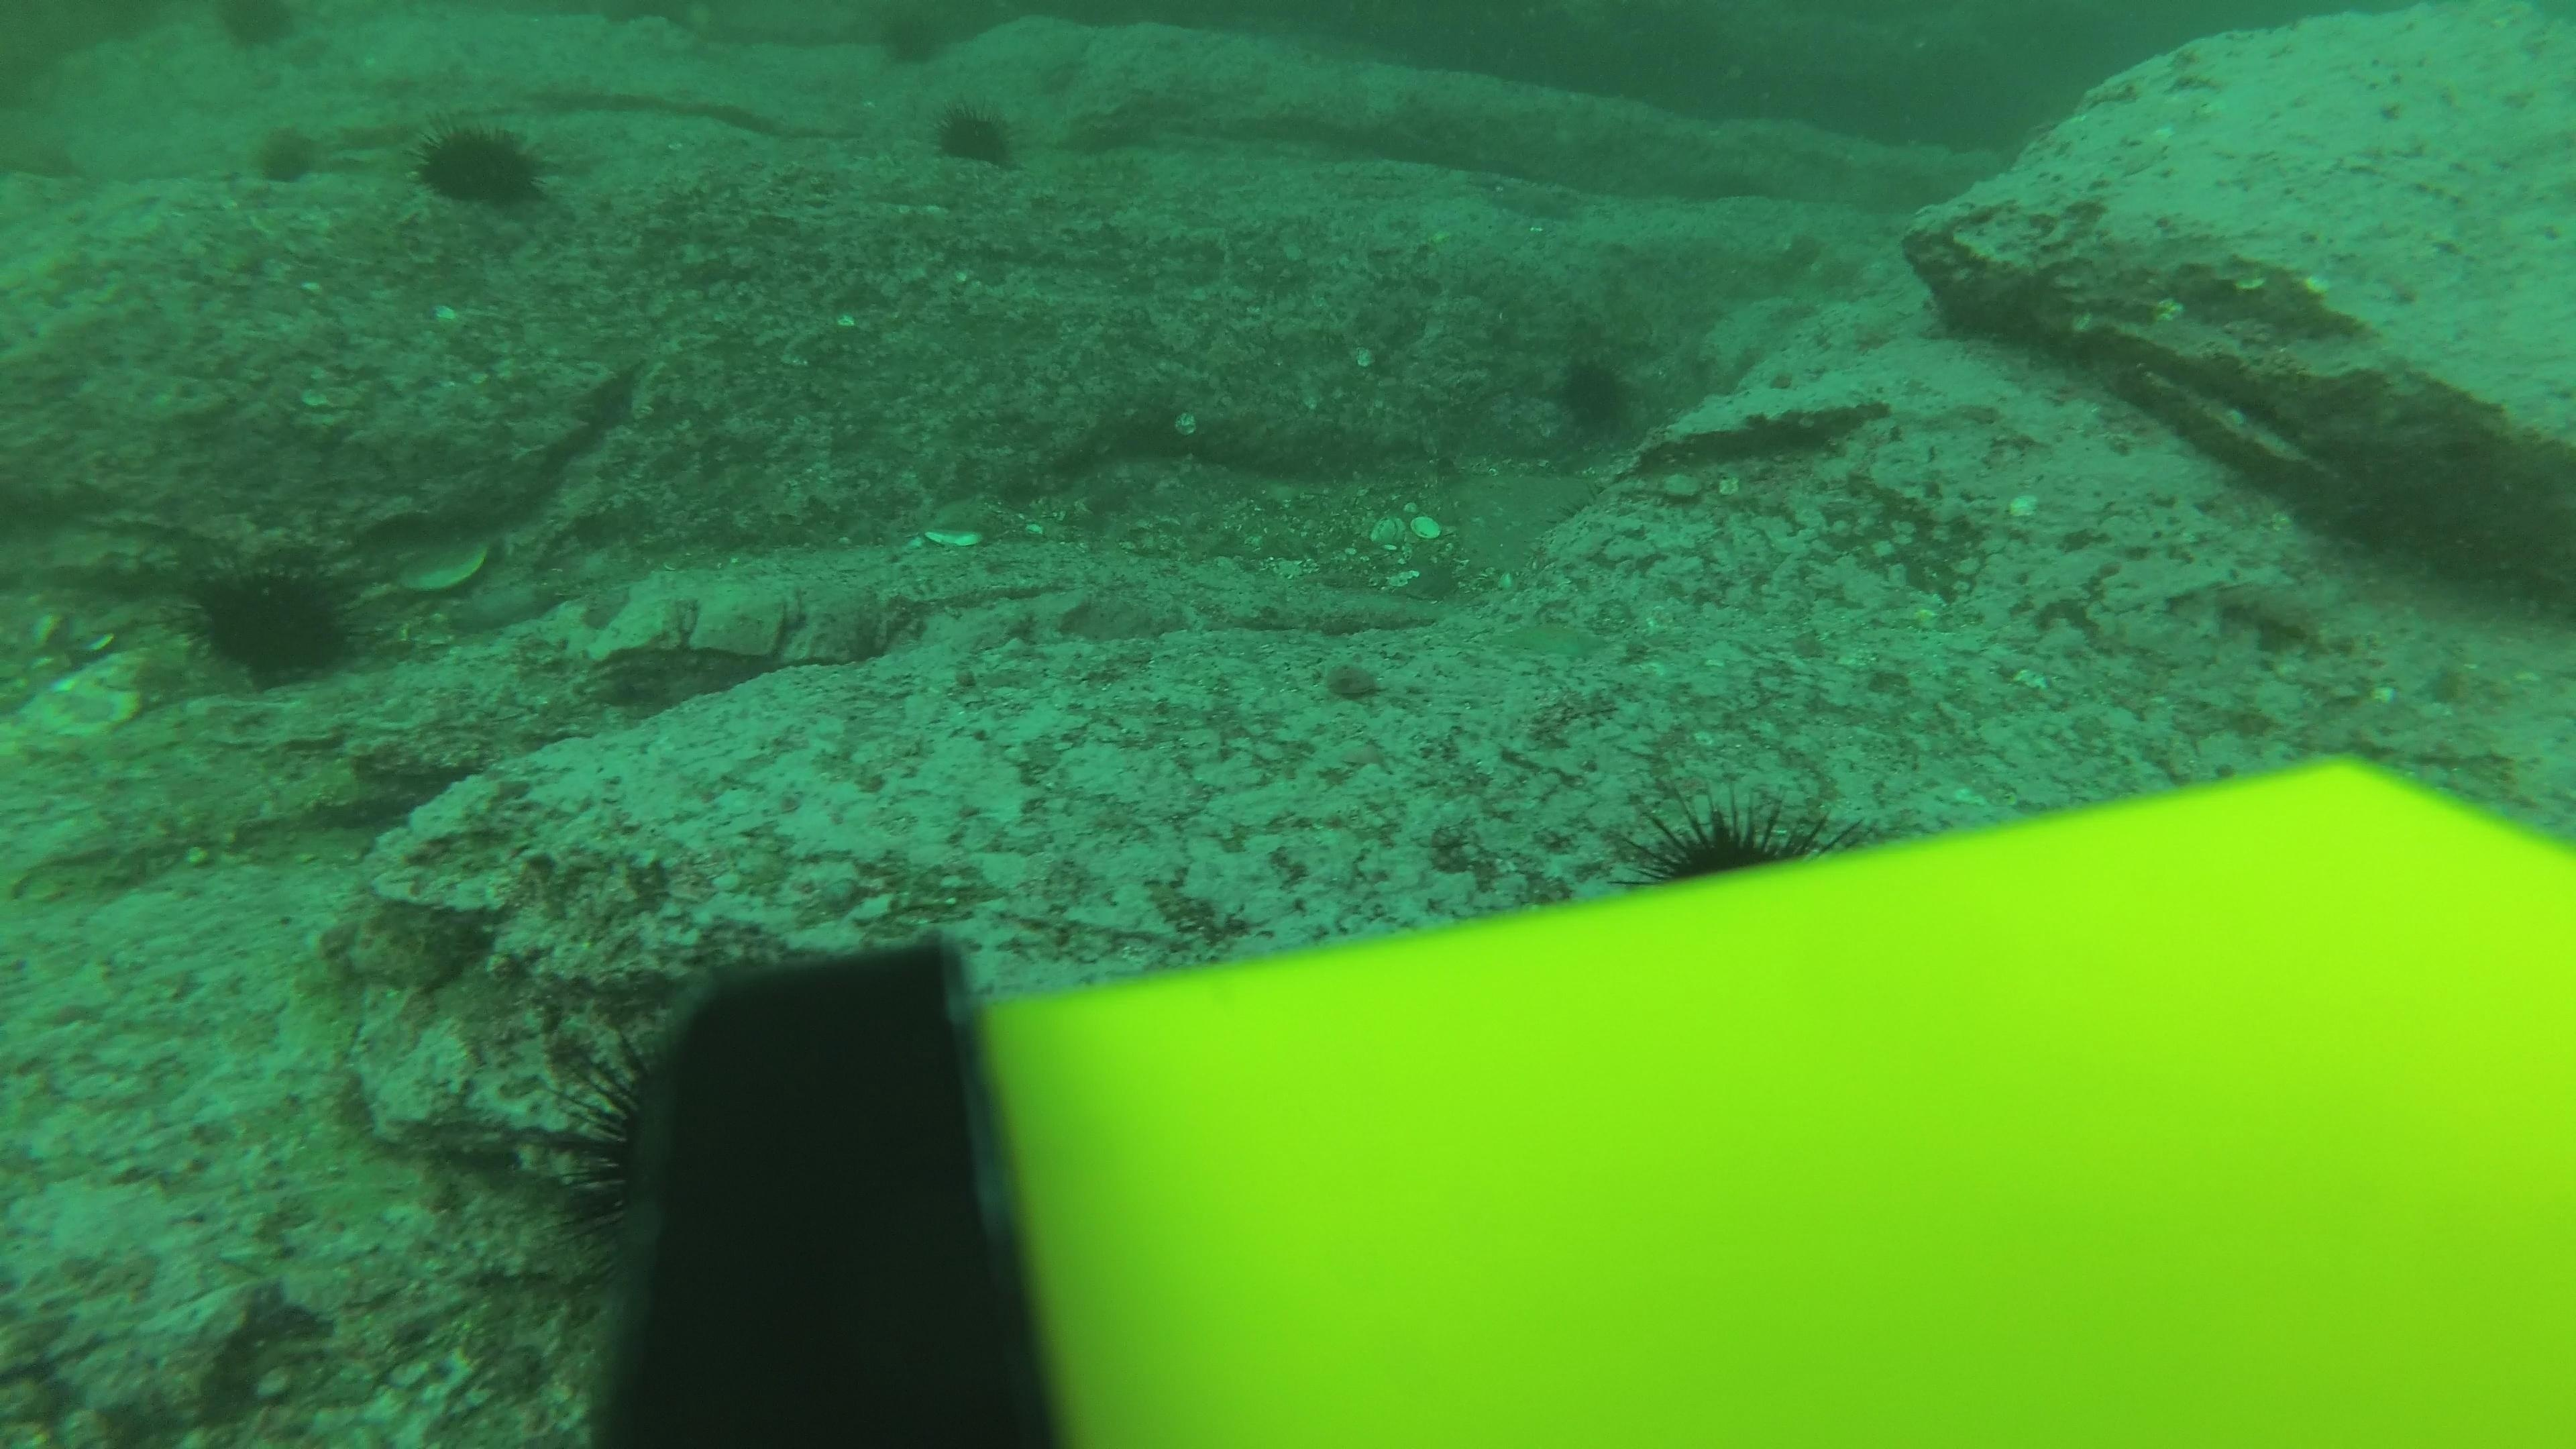echinus: (180, 547, 370, 690), (1624, 784, 1836, 892), (409, 113, 554, 216), (1545, 349, 1645, 448), (927, 94, 1024, 175), (205, 0, 308, 58), (246, 120, 326, 189)
